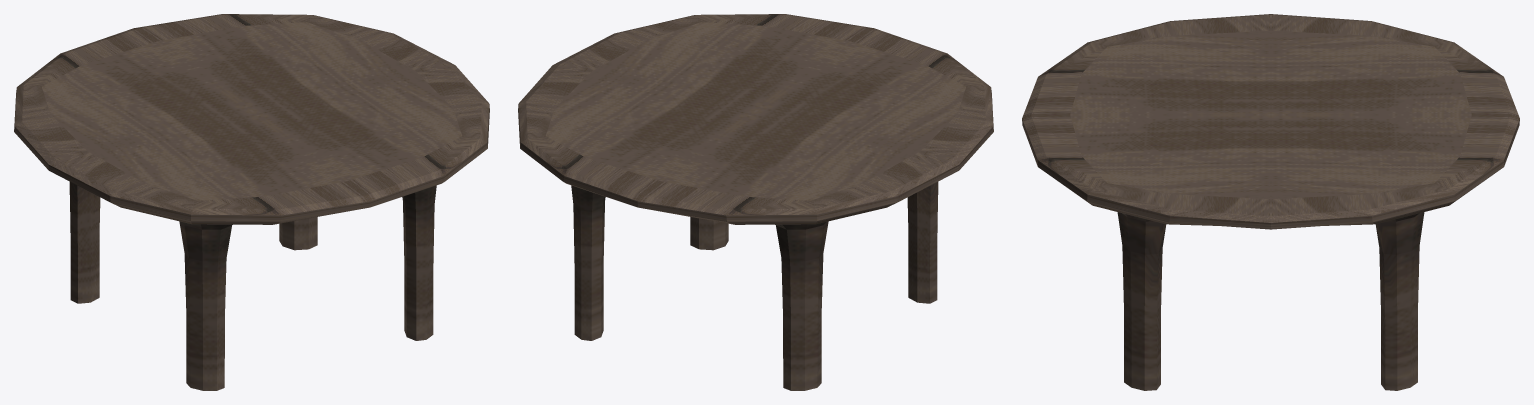
Rendered from table.glb.
3 views of the same model, side by side, from view 1: azimuth 30°, elevation 25°; view 2: azimuth 150°, elevation 25°; view 3: azimuth 270°, elevation 25° (orthographic). The views are drawn at different scales.
Visible parts, largest first — view 1: Cube; view 2: Cube; view 3: Cube.
Part boxes in pixels (x1=…): Cube: x1=14, y1=14, x2=489, y2=390; Cube: x1=518, y1=14, x2=993, y2=390; Cube: x1=1022, y1=14, x2=1519, y2=390.
Size of the model in its own units: 6.34 by 3.02 by 6.38.
Materials: 1 (1 with a texture image).
